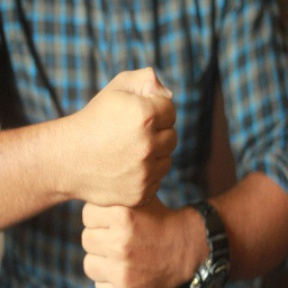G: (62, 71, 192, 288)
